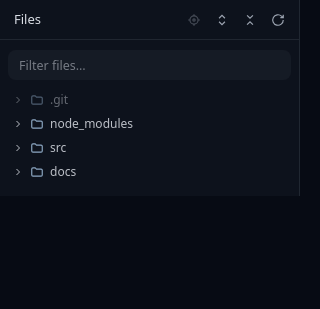
Expand all opens every folder level by level, skipping node_modules and .git; Collapse all closes them (M6-10)
Click the button named "Expand all". click: (222, 20)
box: x1=209 y1=6 x2=235 y2=32
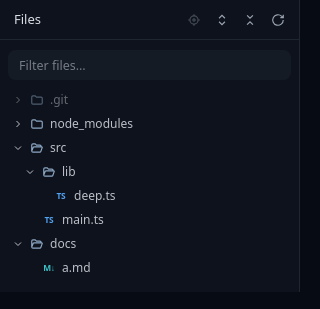
Click the button named "Collapse all". click: (250, 20)
box: x1=237 y1=6 x2=263 y2=32
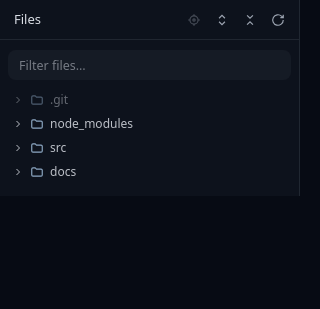
Result: the button "deep.ts" is gone
